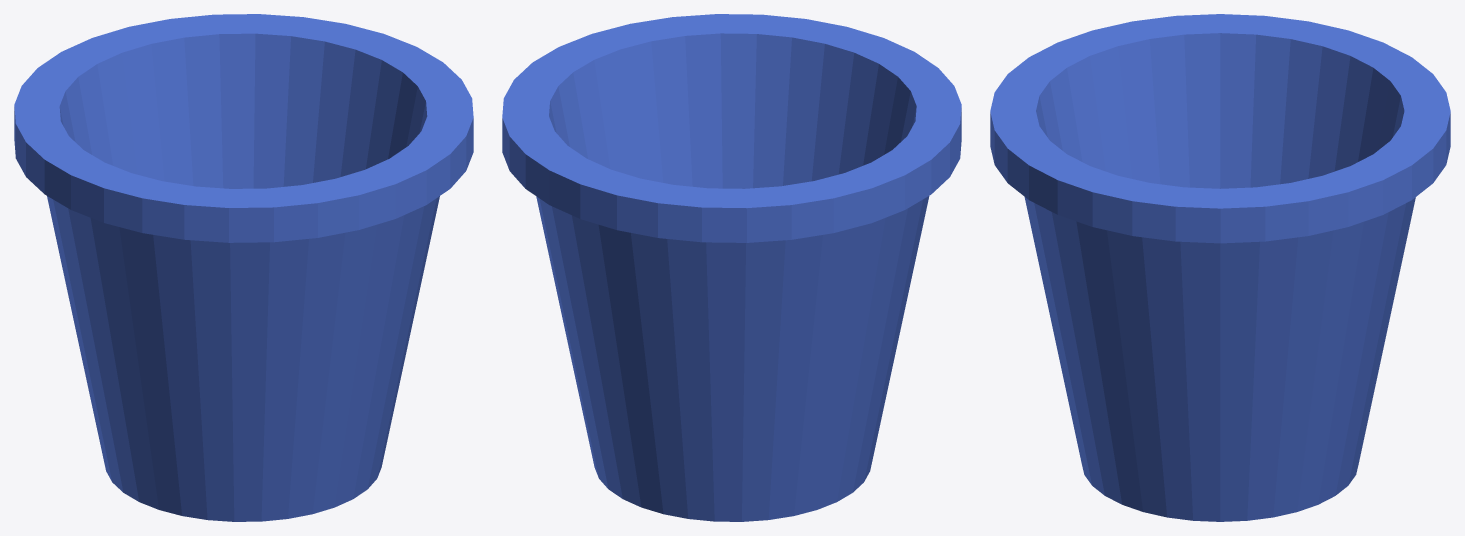
File: FlowerPotlynn.fbx
3 renders of one model, left to right at view 1: azimuth 30°, elevation 25°; view 2: azimuth 150°, elevation 25°; view 3: azimuth 270°, elevation 25°, orthographic.
Parts seen in each view (by area): view 1: Cylinder; view 2: Cylinder; view 3: Cylinder.
Boxes of the visible parts, x1,y1,x2,y2 form: Cylinder: (14,14,473,521); Cylinder: (502,14,961,521); Cylinder: (990,14,1450,521).
Size of the model in its own units: 332 by 281 by 332.
